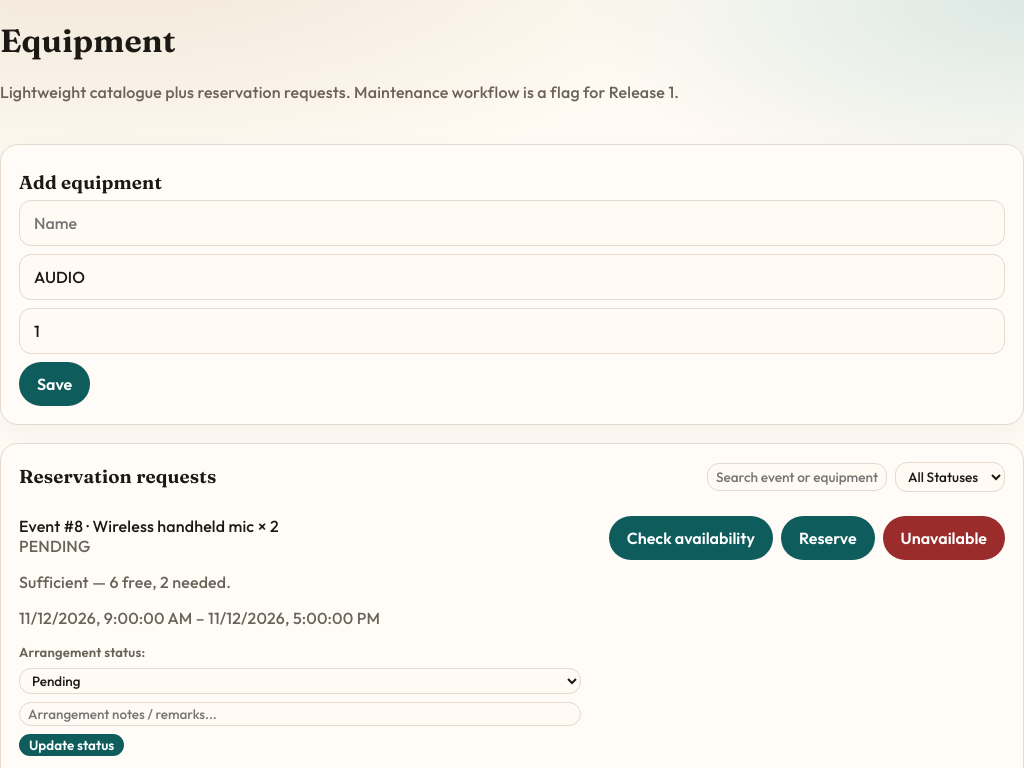
Test: SCRUM-8 Equipment reserve on the request list › AC1: Reserve posts a confirmation for that request
Click the button "Reserve" at (828, 538), box [781,516,875,560]
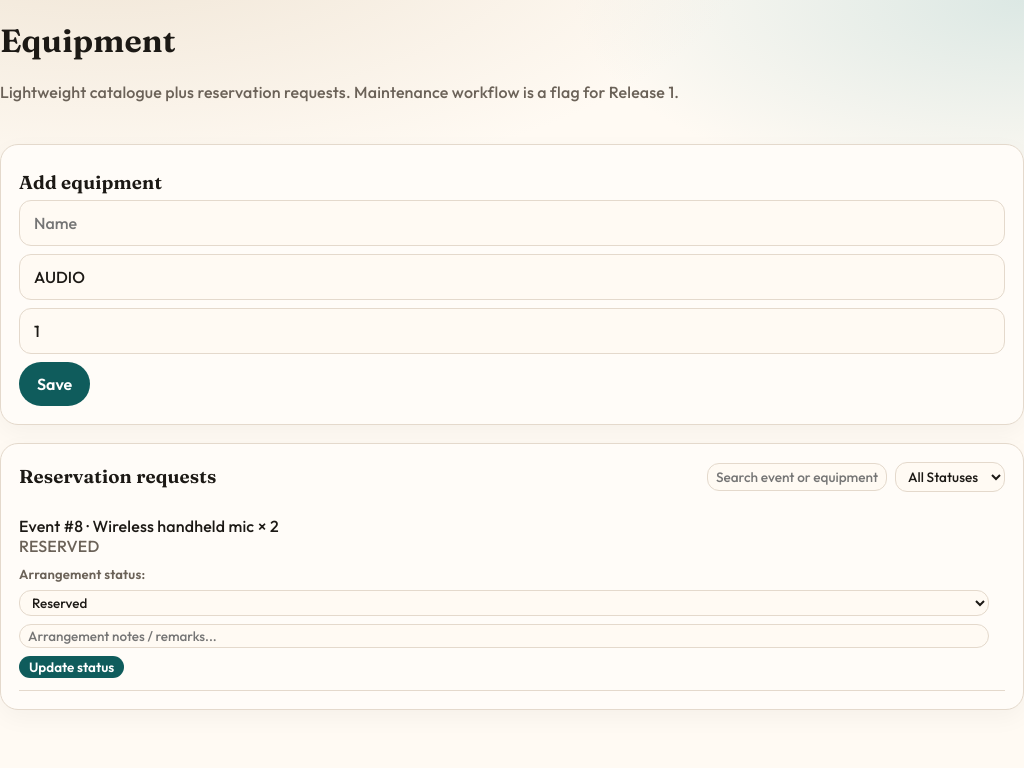
Now the text "RESERVED" is shown, box [19,536,100,556]
Now the text "PENDING" is gone
